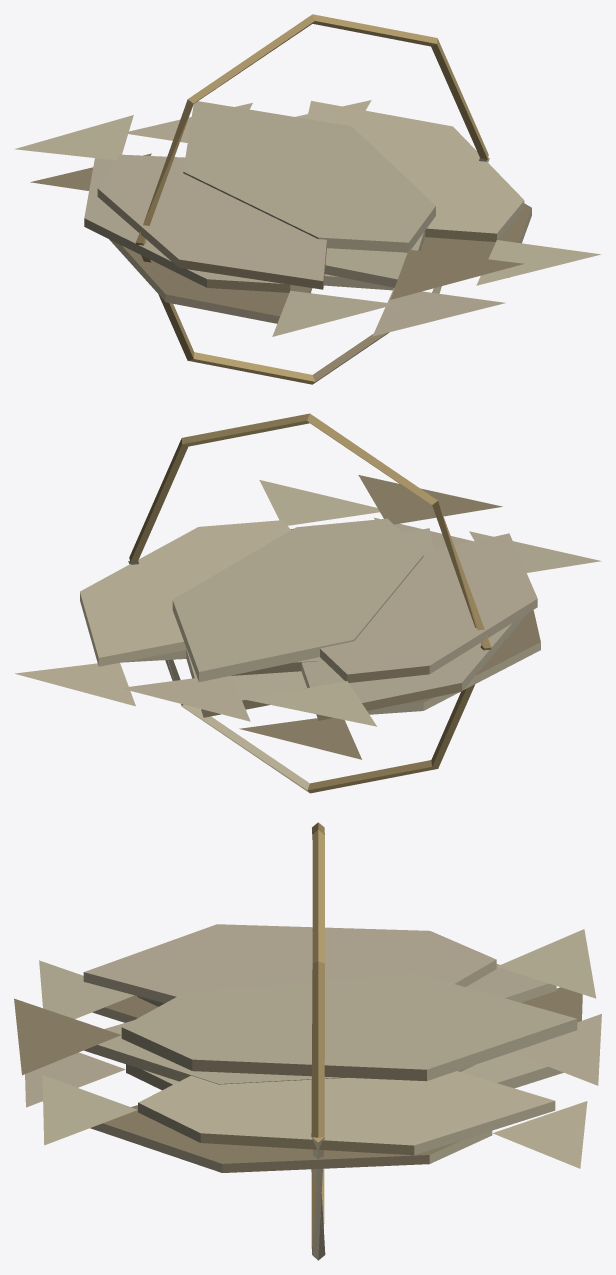
The model's file is storage_dried_fish.glb.
3 renders of one model, top to bottom at view 1: azimuth 30°, elevation 25°; view 2: azimuth 150°, elevation 25°; view 3: azimuth 270°, elevation 25°, orthographic. The views are drawn at different scales.
Visible parts, largest first — view 1: storage_dried_fish; view 2: storage_dried_fish; view 3: storage_dried_fish.
Part boxes in pixels (x1,y1,x2,y2): storage_dried_fish: (14, 14, 601, 384); storage_dried_fish: (15, 413, 601, 793); storage_dried_fish: (14, 822, 601, 1260).
Bounding box in the file's own units: 1.08 × 1.03 × 1.29.
